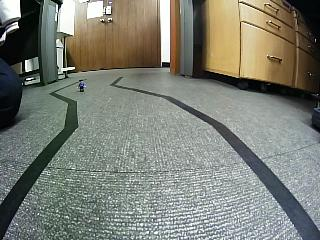person: (77, 79, 87, 92)
